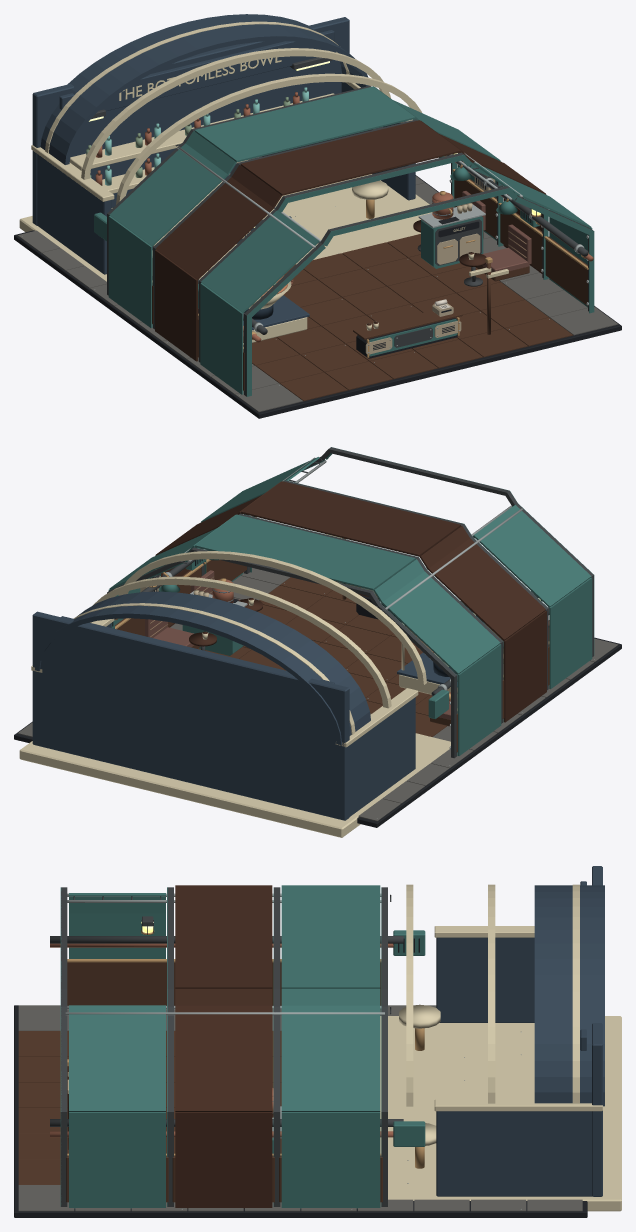
The model's file is sloshwell-bar.glb.
3 views of the same model, one above another, from view 1: azimuth 30°, elevation 25°; view 2: azimuth 150°, elevation 25°; view 3: azimuth 270°, elevation 25° (orthographic). The views are drawn at different scales.
Parts seen in each view (by area): view 1: sloshwell-bar; view 2: sloshwell-bar; view 3: sloshwell-bar.
Boxes of the visible parts, x1,y1,x2,y2 form: sloshwell-bar: [14, 14, 621, 418]; sloshwell-bar: [14, 447, 621, 837]; sloshwell-bar: [14, 866, 621, 1217].
Bounding box in the file's own units: 17.08 × 7.77 × 21.15.
25 materials, 22 textured.
